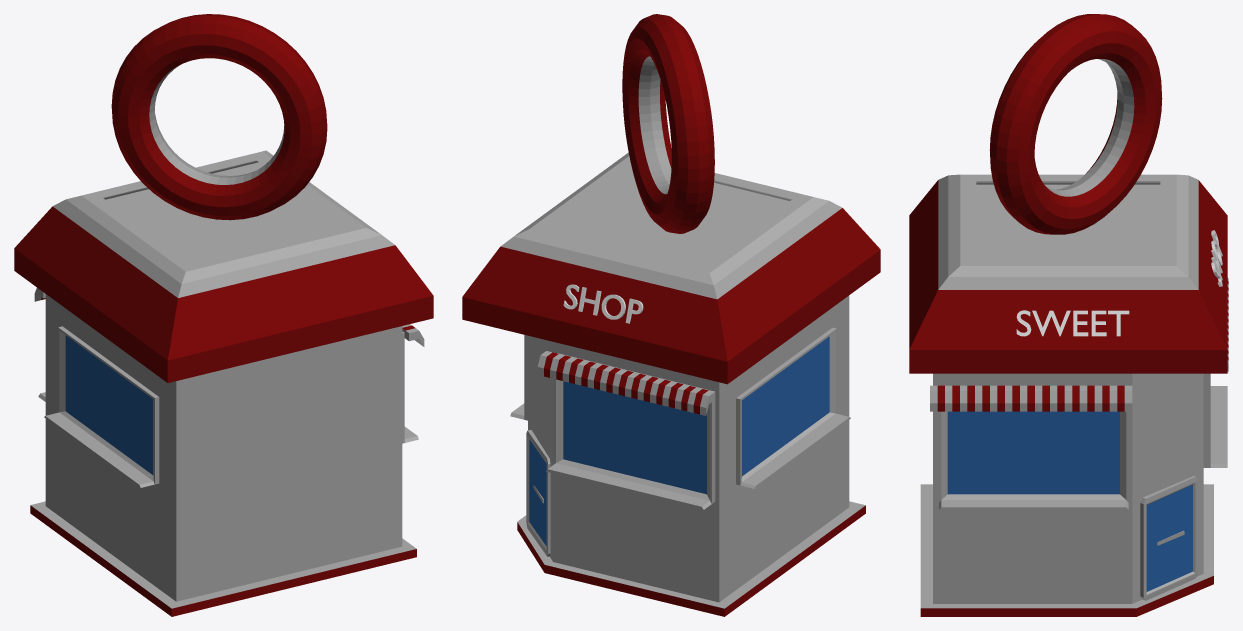
The model's file is SWEET SHOP_Material.061.glb.
3 renders of one model, left to right at view 1: azimuth 30°, elevation 25°; view 2: azimuth 150°, elevation 25°; view 3: azimuth 270°, elevation 25°, orthographic. The views are drawn at different scales.
Parts seen in each view (by area): view 1: SWEET SHOP_Material.061_0; view 2: SWEET SHOP_Material.061_0; view 3: SWEET SHOP_Material.061_0.
Part boxes in pixels (x1,y1,x2,y2): SWEET SHOP_Material.061_0: [14, 14, 433, 616]; SWEET SHOP_Material.061_0: [462, 14, 880, 616]; SWEET SHOP_Material.061_0: [909, 14, 1228, 616].
Bounding box in the file's own units: 1.3 × 2.41 × 1.3.
Materials: 1 (1 with a texture image).
